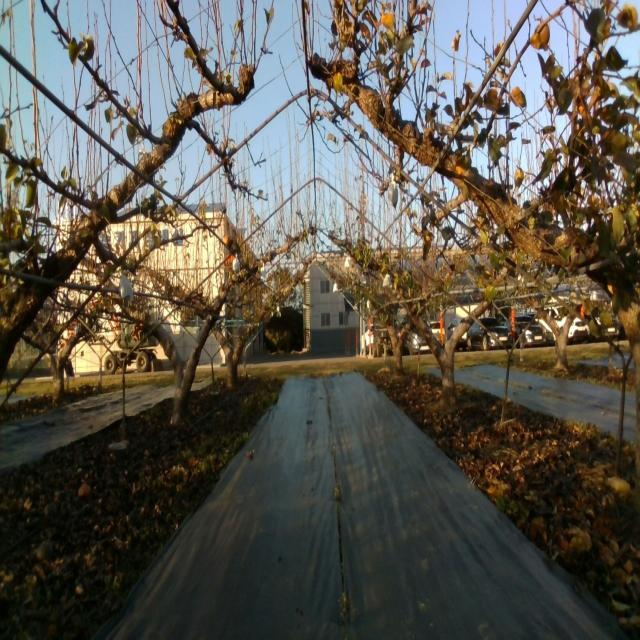pearbags: (120, 270, 135, 302), (387, 174, 399, 210)
